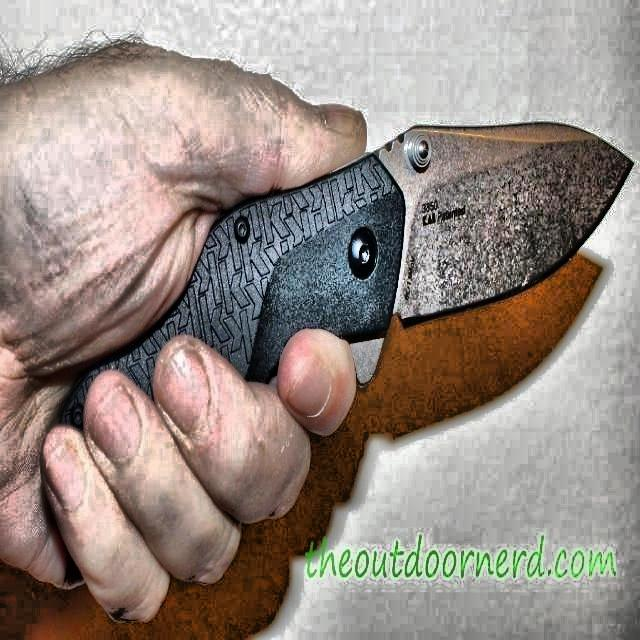knife: (59, 121, 634, 433)
